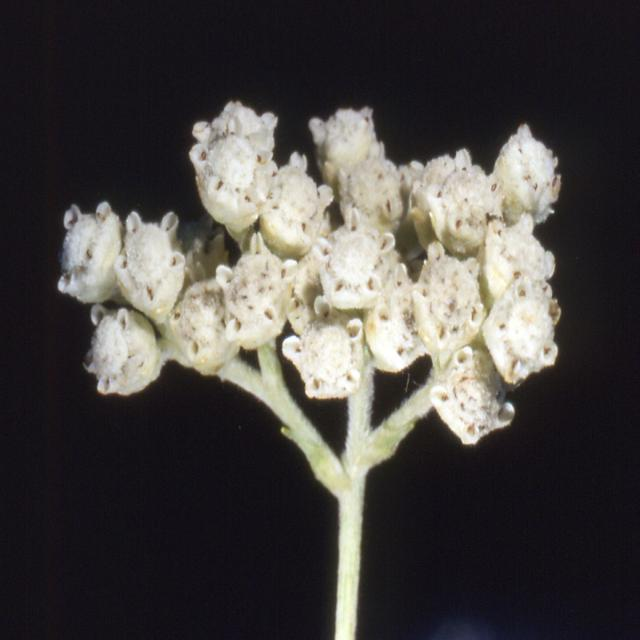Poisonous-Parthenium: (60, 68, 571, 500)
